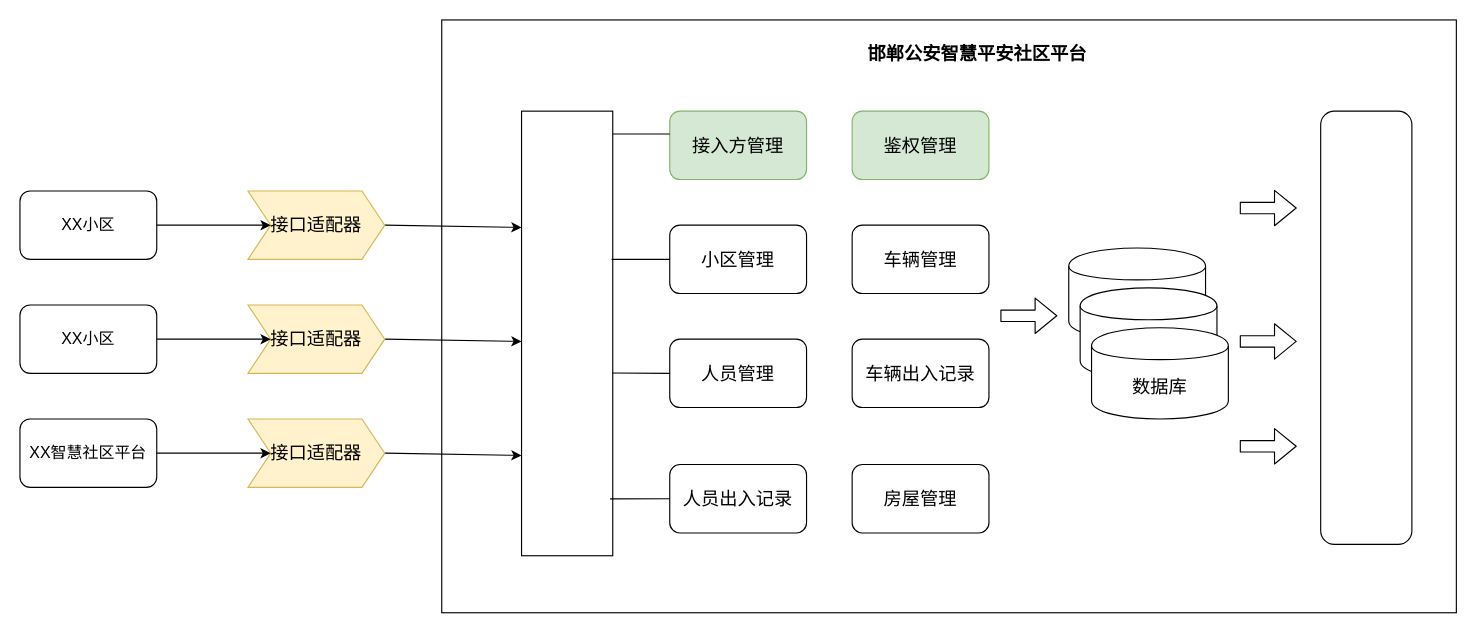
Image size: 1476x633. Some labels were removed from this diagram. Here are the shapes that lost their labels. From the top down, the centre of each, then its label:
the point at 566,333: 数 据 开 放 平 台
the point at 1366,327: 统计 分析 告警
